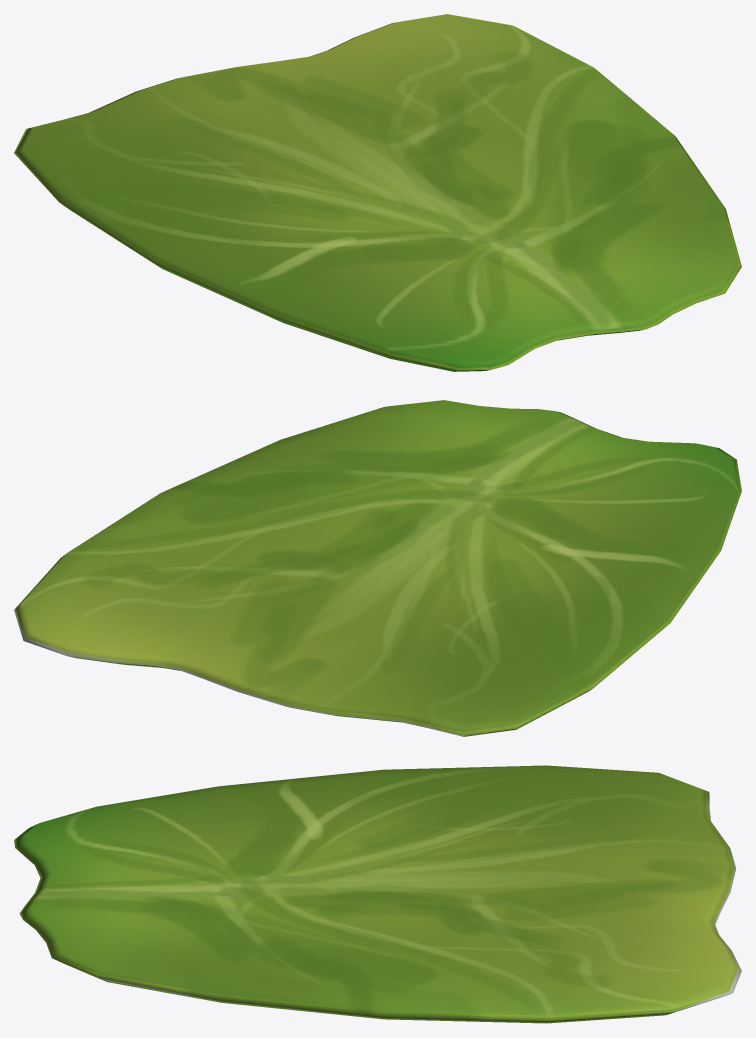
Rendered from Lechuga.fbx.
The picture shows the model from 3 angles, top to bottom: view 1: azimuth 30°, elevation 25°; view 2: azimuth 150°, elevation 25°; view 3: azimuth 270°, elevation 25°; orthographic projection. The views are drawn at different scales.
Parts seen in each view (by area): view 1: Cube; view 2: Cube; view 3: Cube.
Boxes of the visible parts, x1,y1,x2,y2 form: Cube: (14,14,741,371); Cube: (14,400,741,736); Cube: (14,765,741,1023).
Bounding box in the file's own units: 269 × 12.99 × 329.
Materials: 1 (1 with a texture image).
